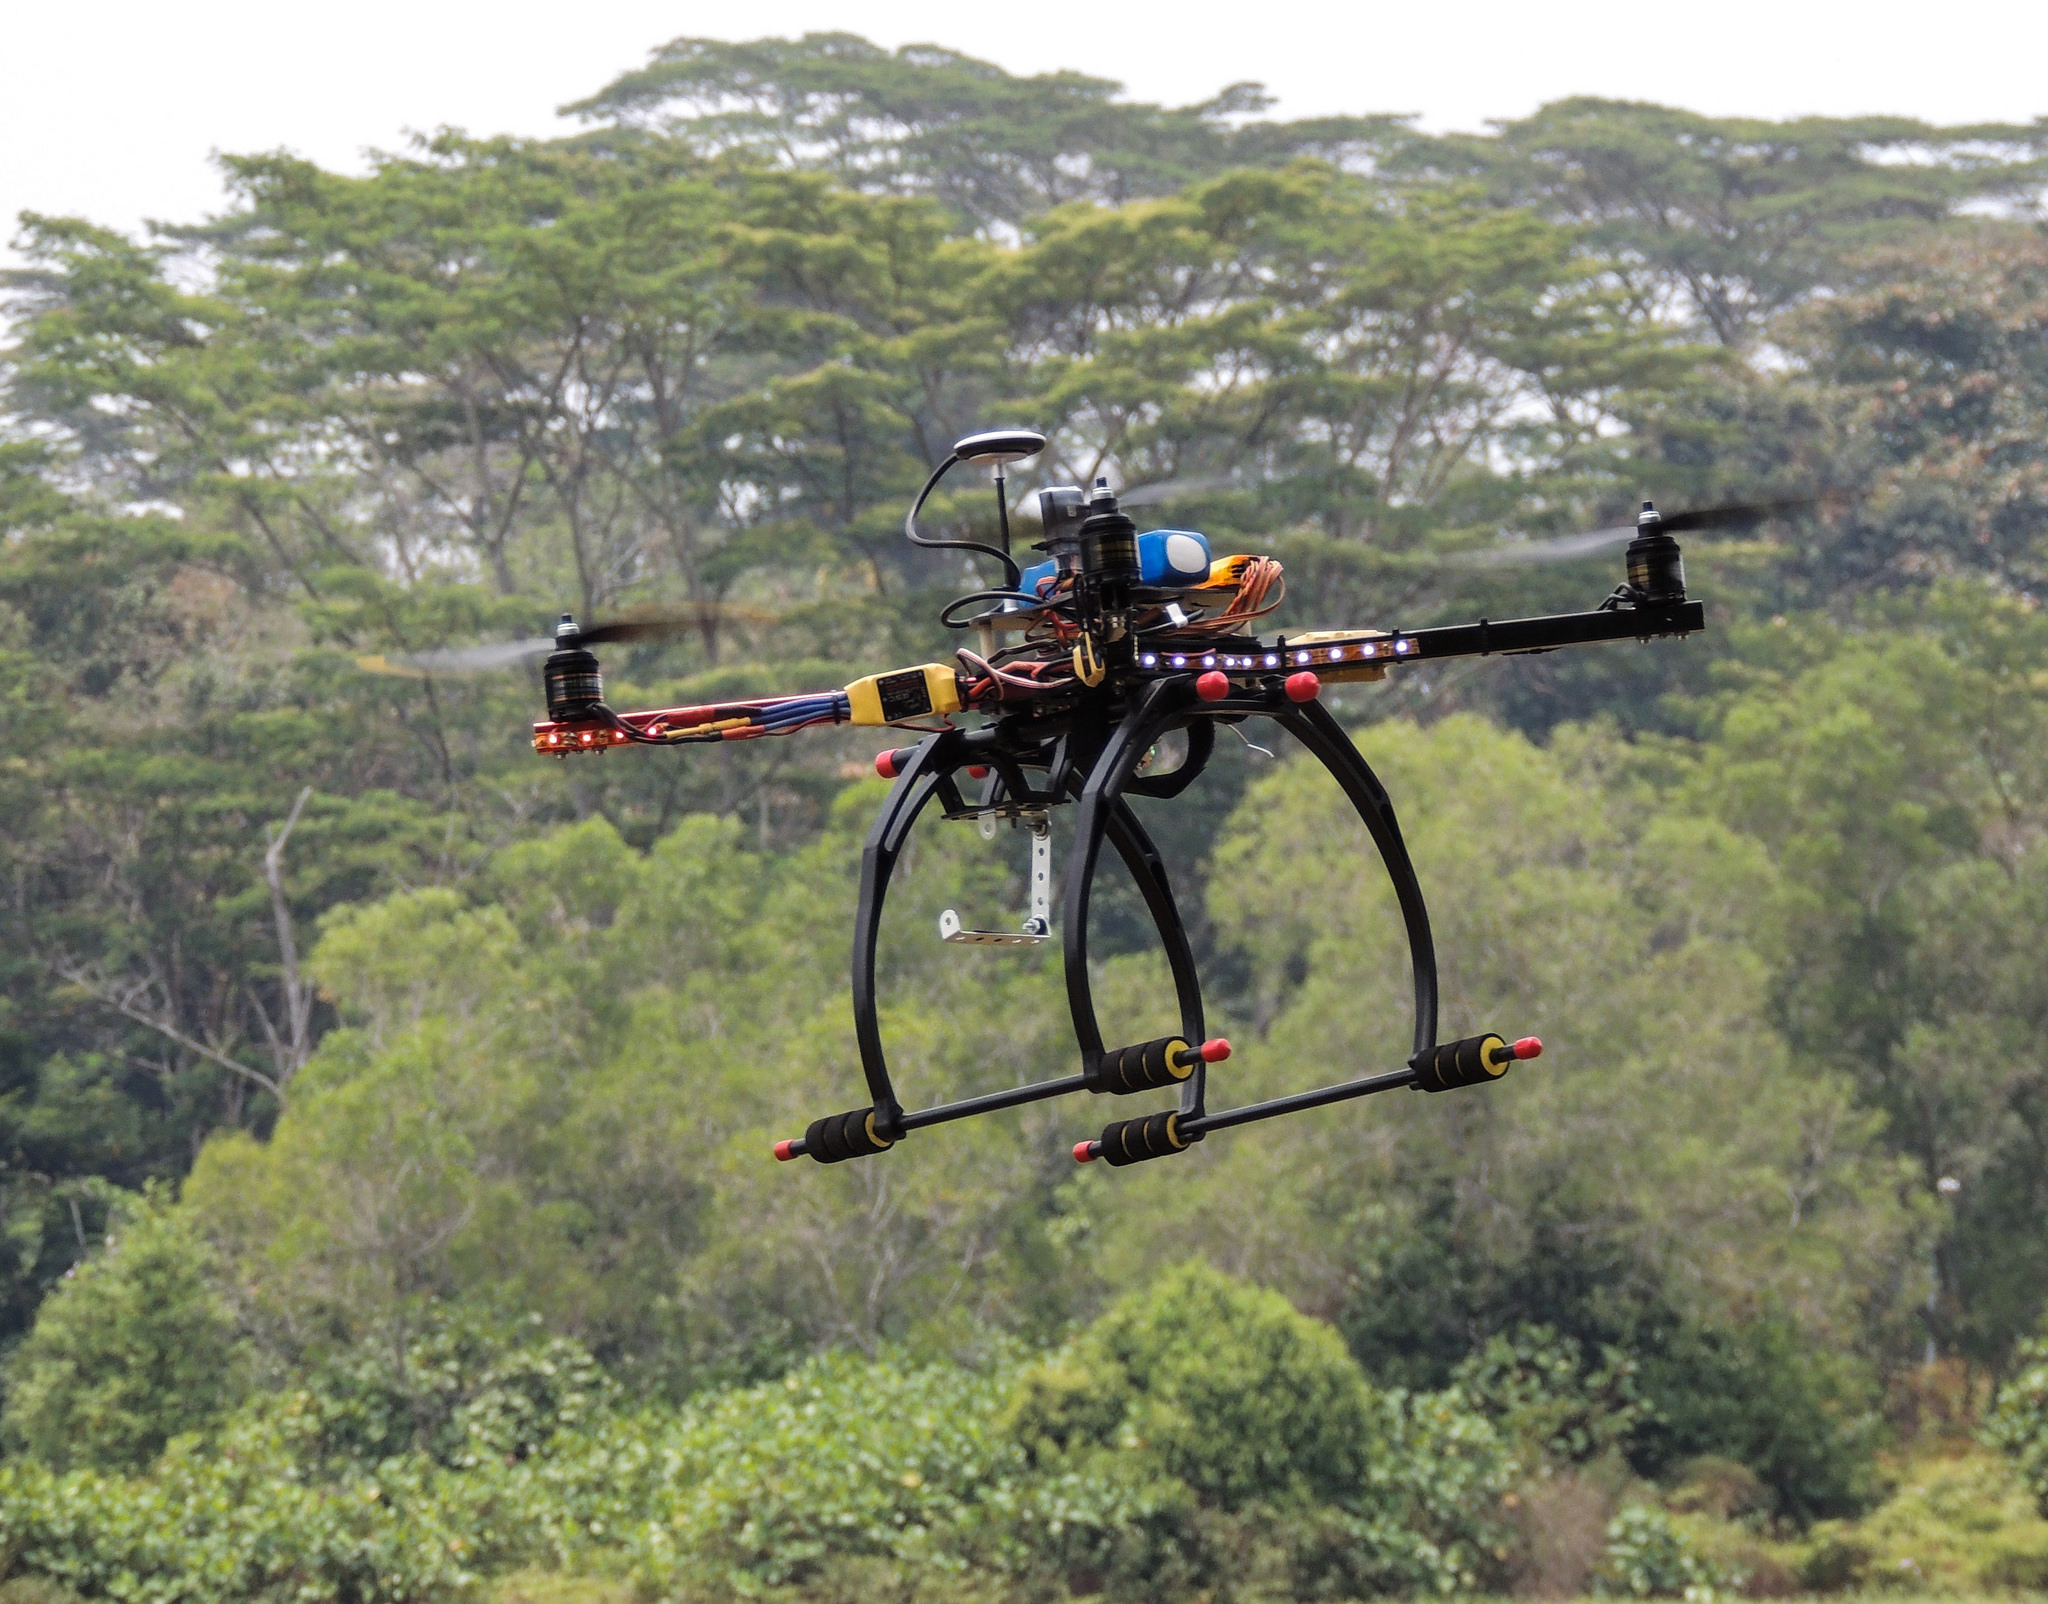drone: (416, 419, 1814, 1177)
